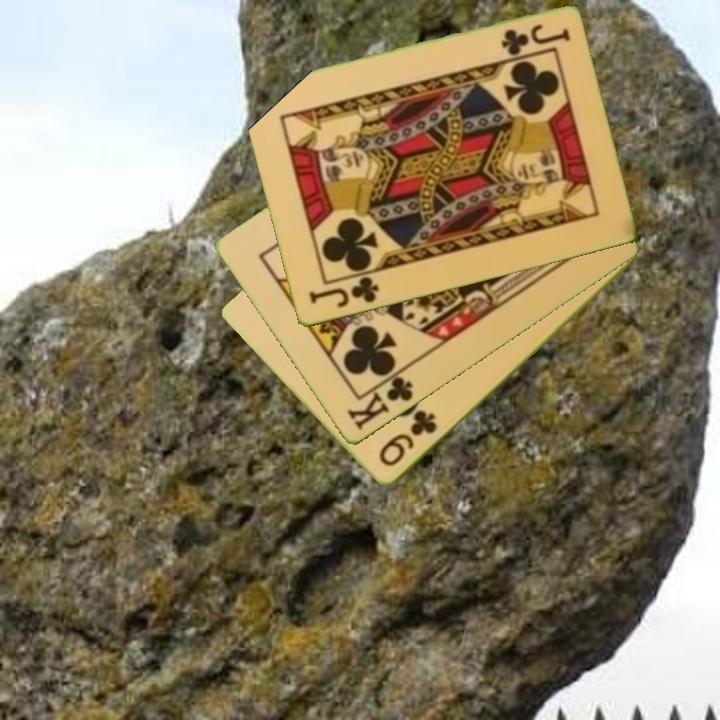9c: (375, 407, 440, 470)
Jc: (305, 273, 382, 311), (497, 21, 573, 58)
Kc: (343, 366, 416, 435)
